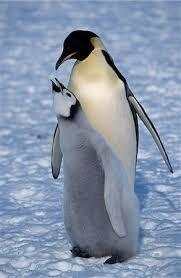emporer: (35, 30, 177, 268)
